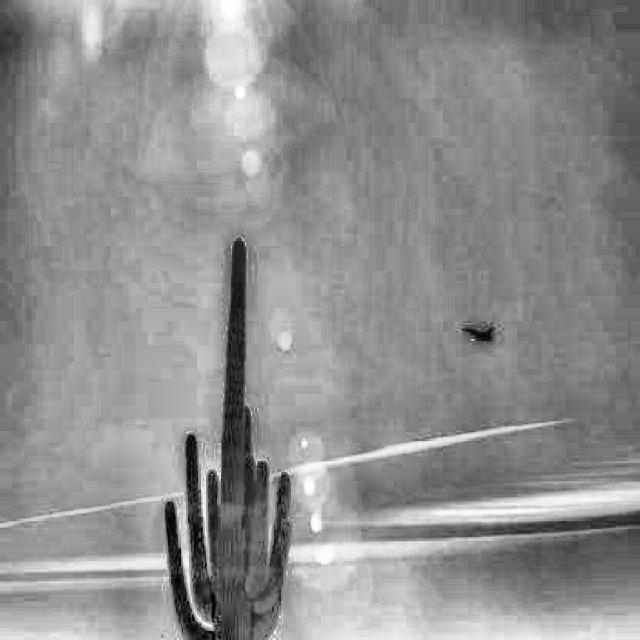F16: (461, 326, 494, 342)
